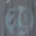Speed limit: (2, 2, 35, 33)
